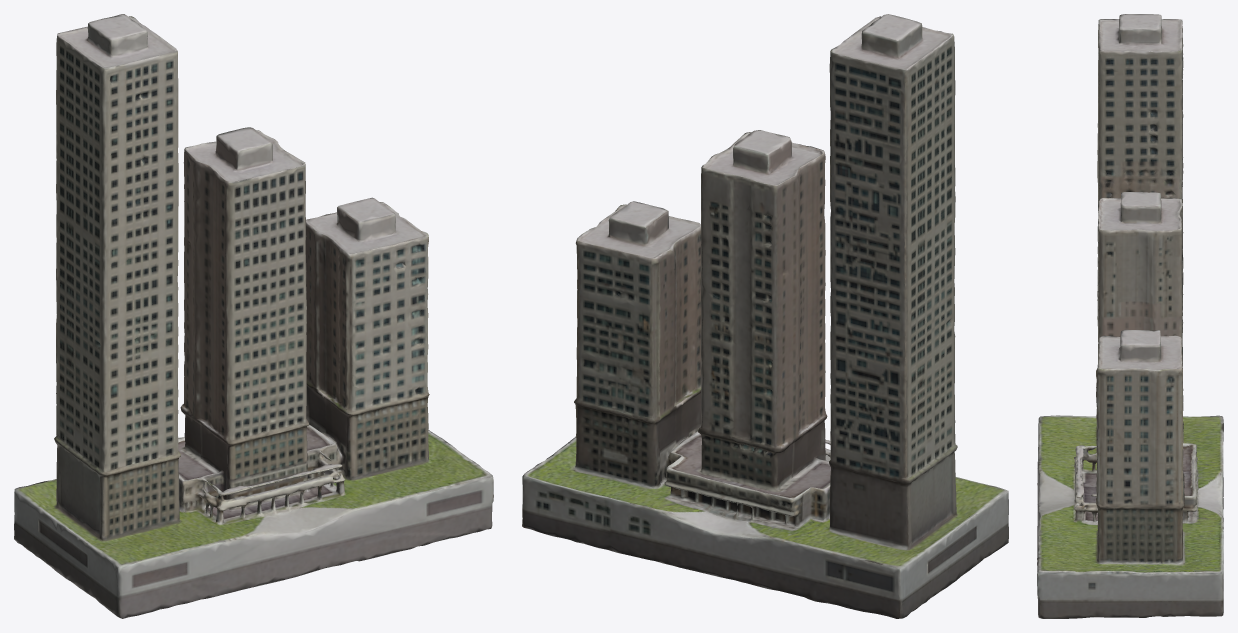
The model's file is 롯데_원경아파트.glb.
3 views of the same model, side by side, from view 1: azimuth 30°, elevation 25°; view 2: azimuth 150°, elevation 25°; view 3: azimuth 270°, elevation 25° (orthographic). The views are drawn at different scales.
Visible parts, largest first — view 1: texture_mapping; view 2: texture_mapping; view 3: texture_mapping.
Boxes of the visible parts, x1=… form: texture_mapping: x1=14, y1=14, x2=493, y2=618; texture_mapping: x1=522, y1=14, x2=1008, y2=618; texture_mapping: x1=1037, y1=14, x2=1223, y2=618.
Size of the model in its own units: 0.7299 by 0.9987 by 0.3644.
1 material, 1 textured.
